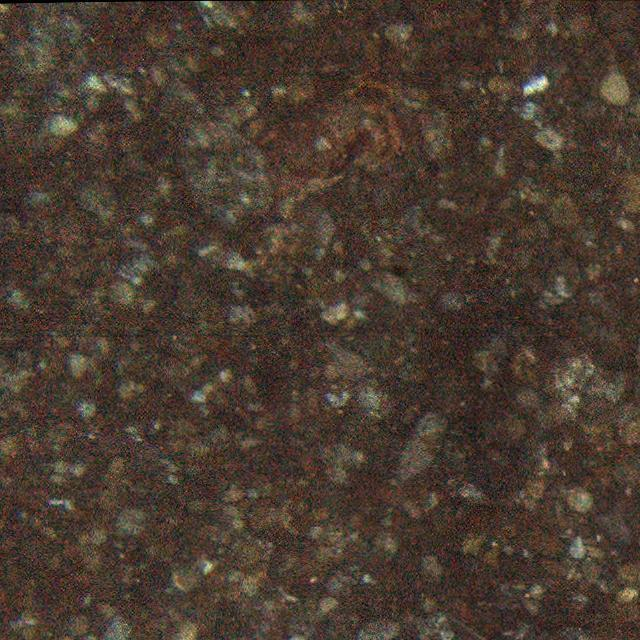crab: (256, 79, 402, 185)
